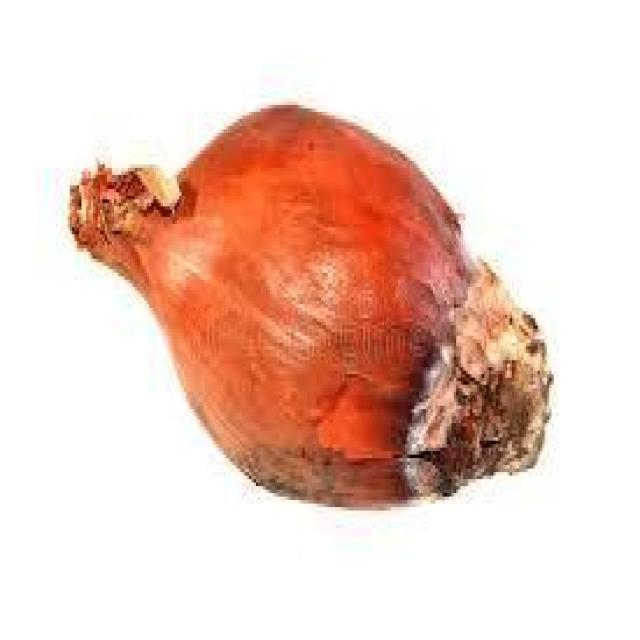Onion: (63, 93, 558, 505)
